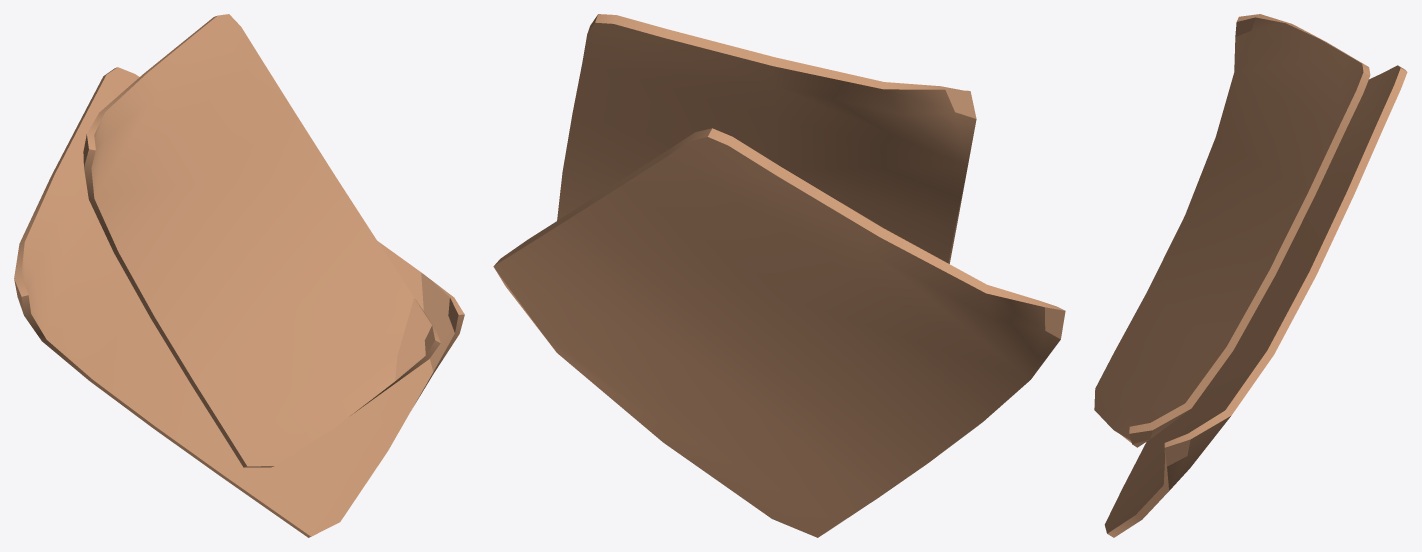
Rendered from UI_Paper.glb.
3 renders of one model, left to right at view 1: azimuth 30°, elevation 25°; view 2: azimuth 150°, elevation 25°; view 3: azimuth 270°, elevation 25°, orthographic. The views are drawn at different scales.
Visible parts, largest first — view 1: UI_Paper; view 2: UI_Paper; view 3: UI_Paper.
Boxes of the visible parts, x1,y1,x2,y2 form: UI_Paper: [14, 14, 464, 537]; UI_Paper: [493, 14, 1065, 537]; UI_Paper: [1094, 14, 1407, 537].
Size of the model in its own units: 0.5096 by 0.5156 by 0.3065.
Materials: 1 (1 with a texture image).
